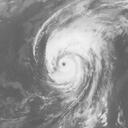cyclone: (45, 40, 93, 91)
